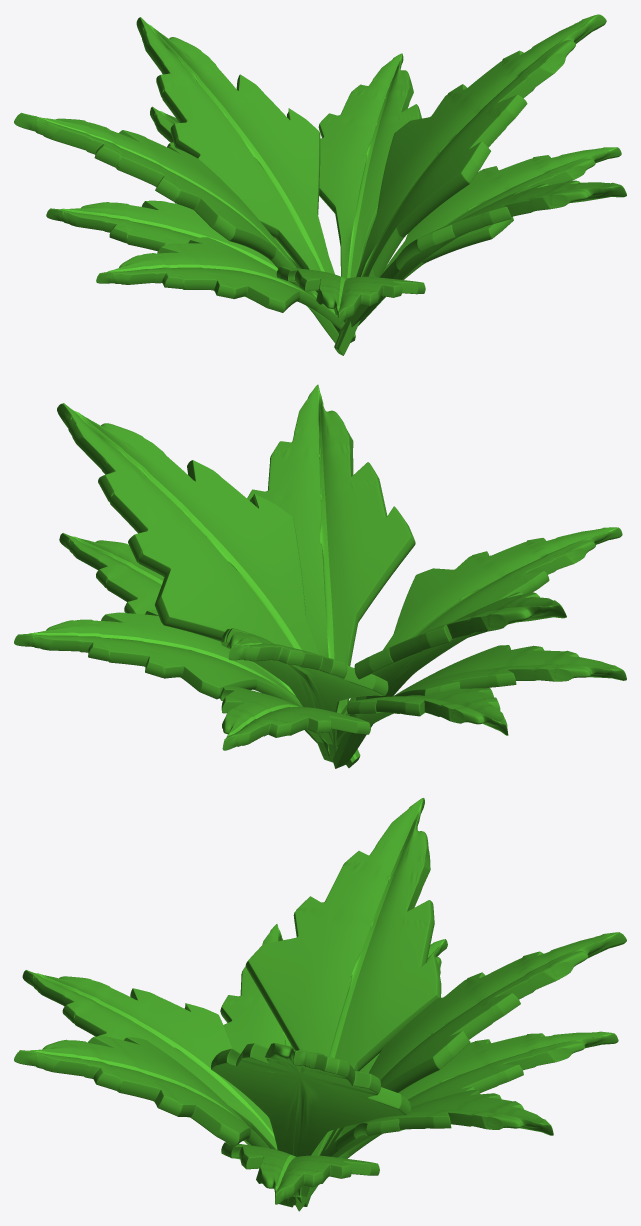
The model's file is plant3.fbx.
The picture shows the model from 3 angles, top to bottom: view 1: azimuth 30°, elevation 25°; view 2: azimuth 150°, elevation 25°; view 3: azimuth 270°, elevation 25°; orthographic projection. The views are drawn at different scales.
Visible parts, largest first — view 1: Cube.005; view 2: Cube.005; view 3: Cube.005.
Part boxes in pixels (left/top/right/bottom): Cube.005: left=14, top=14, right=626, bottom=355; Cube.005: left=14, top=384, right=626, bottom=768; Cube.005: left=14, top=798, right=626, bottom=1211.
Bounding box in the file's own units: 2618 × 1276 × 2416.
